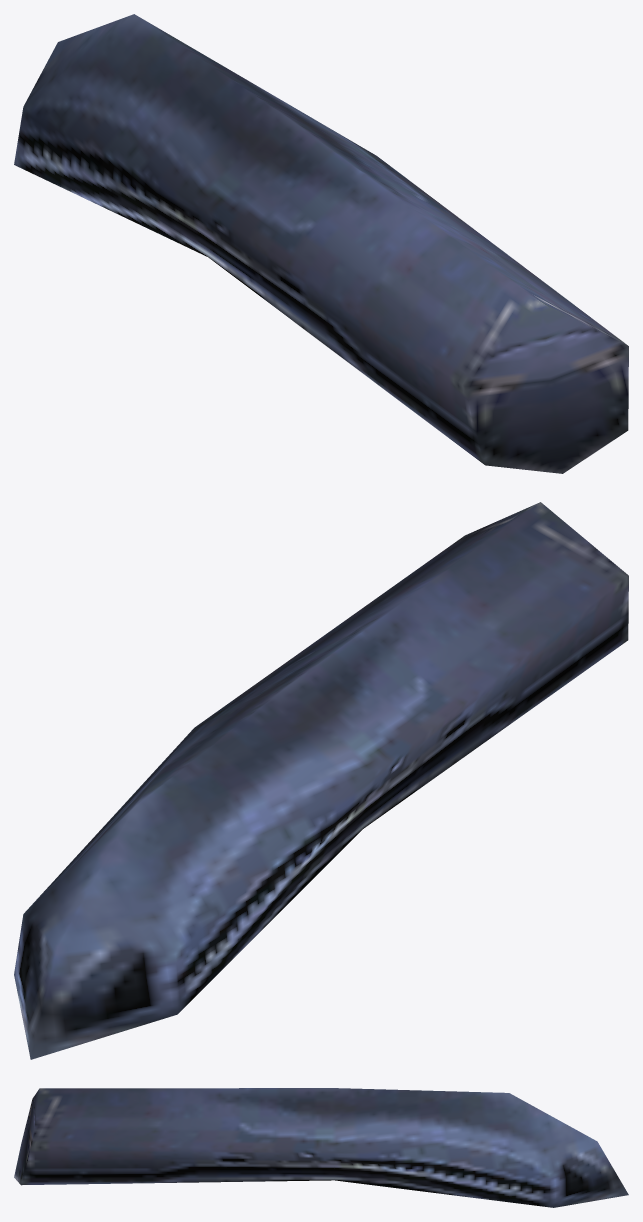
File: eqp_tool_sandstat_l3.fbx
The picture shows the model from 3 angles, top to bottom: view 1: azimuth 30°, elevation 25°; view 2: azimuth 150°, elevation 25°; view 3: azimuth 270°, elevation 25°; orthographic projection. The views are drawn at different scales.
Parts seen in each view (by area): view 1: mesh_node; view 2: mesh_node; view 3: mesh_node.
Part boxes in pixels (x1,y1,x2,y2): mesh_node: (14, 14, 628, 473); mesh_node: (14, 502, 628, 1059); mesh_node: (14, 1088, 628, 1207).
Size of the model in its own units: 0.0902 by 0.0875 by 0.4556.
